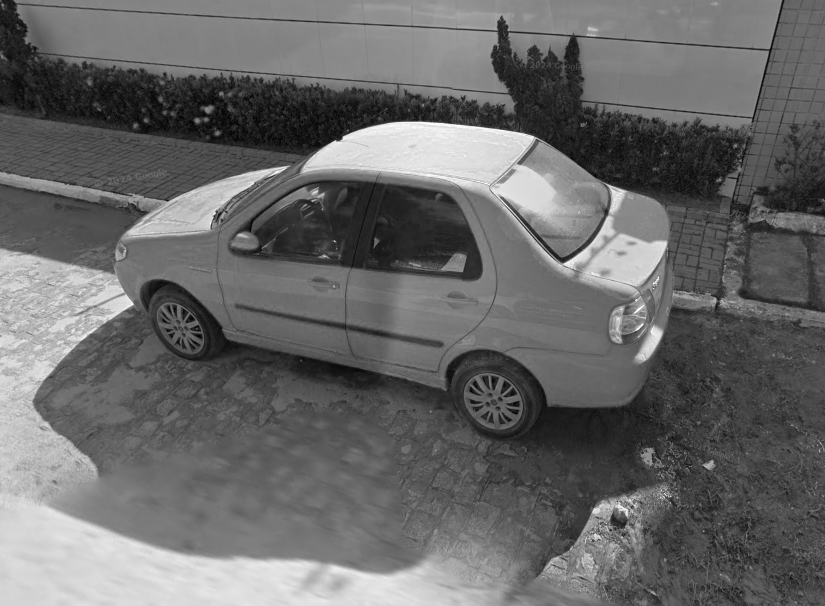car: (111, 112, 679, 441)
